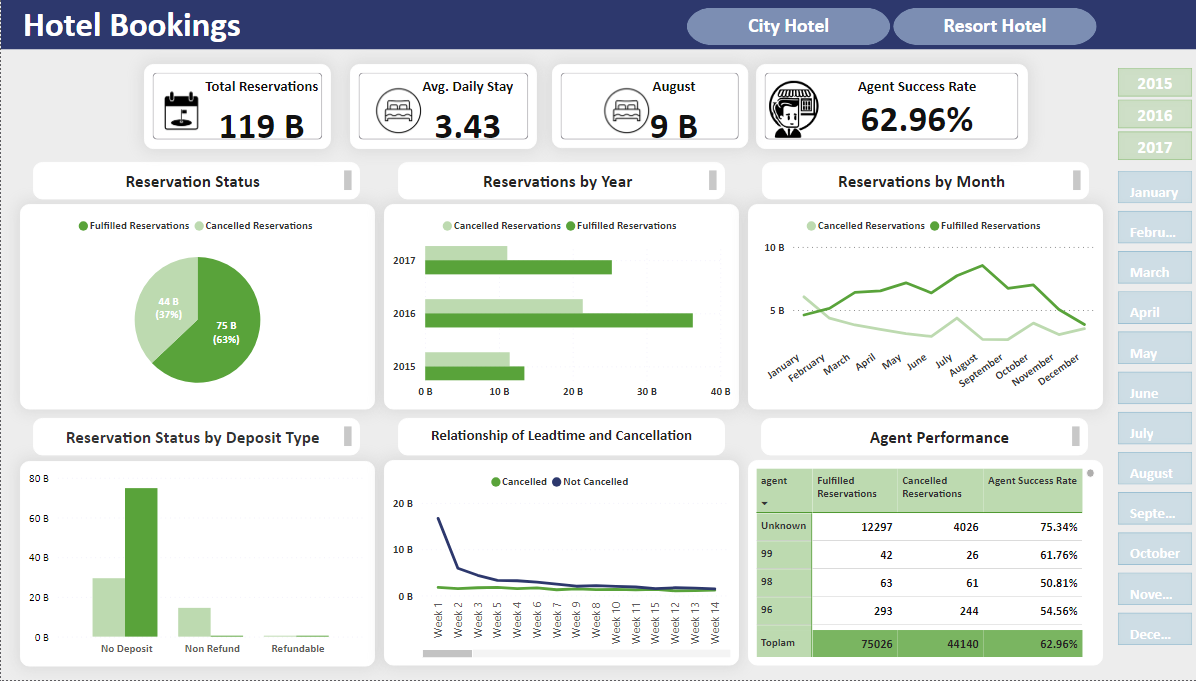

The dashboard page shown, as its layout file describes it:
{"tool":"powerbi","page":{"name":"Reservations","canvas":[1280,730],"ordinal":2},"visuals":[{"type":"shape","box":[0,0,1280.5,55],"z":0},{"type":"textbox","box":[0,0,280,70.1],"z":1000},{"type":"pieChart","title":"Fulfilled and Cancelled Reservations","fields":{"Y":["Measures_Table.Fulfilled Reservations","Measures_Table.Cancelled Reservations"]},"box":[20,220,380,220],"z":2000},{"type":"clusteredBarChart","title":"Reservations by Year","fields":{"Category":["Date_Table.Year"],"Y":["Measures_Table.Cancelled Reservations","Measures_Table.Fulfilled Reservations"]},"box":[410,220,380,220],"z":3000},{"type":"areaChart","title":"Reservations by Month","fields":{"Category":["Date_Table.MonthName"],"Y":["Measures_Table.Cancelled Reservations","Measures_Table.Fulfilled Reservations"]},"box":[800,220,380,220],"z":4000},{"type":"clusteredColumnChart","title":"Stay in Weeknights and Weekend Nights","fields":{"Category":["hotel_bookings.deposit_type"],"Y":["Measures_Table.Cancelled Reservations","Measures_Table.Fulfilled Reservations"]},"box":[20,495.6,380,220],"z":5000},{"type":"lineChart","title":"Relationship Leadtime and Cancellation","fields":{"Series":["hotel_bookings.Cancelled Status"],"Y":["Measures_Table.Total Reservations"],"Category":["hotel_bookings.LeadTimeGroup"]},"box":[410,495,380,220],"z":6000},{"type":"textbox","box":[34.4,175.6,350,40],"z":7000},{"type":"textbox","box":[424.4,175.6,350,40],"z":8000},{"type":"textbox","box":[814.4,175.6,350,40],"z":9000},{"type":"textbox","box":[34.4,450,350,40],"z":10000},{"type":"textbox","box":[424.4,450,350,40],"z":11000},{"type":"pivotTable","fields":{"Values":["Measures_Table.Fulfilled Reservations","Measures_Table.Cancelled Reservations","hotel_bookings.SuccessRate"],"Rows":["hotel_bookings.agent"]},"box":[800,495,380,220],"z":12000},{"type":"advancedSlicerVisual","fields":{"Values":["hotel_bookings.hotel"]},"box":[728.9,5.6,450,50],"z":13000},{"type":"cardVisual","title":"Total Customers","fields":{"Data":["Measures_Table.Avg. Daily Stay"]},"box":[373.5,70.1,200.2,90.5],"z":14000},{"type":"textbox","box":[814,450,350,40],"z":15000},{"type":"advancedSlicerVisual","fields":{"Values":["Date_Table.Year"]},"box":[1190,70,90,110],"z":16000},{"type":"advancedSlicerVisual","fields":{"Values":["Date_Table.MonthName"]},"box":[1190,180,90,520],"z":17000},{"type":"cardVisual","title":"Total Customers","fields":{"Data":["hotel_bookings.Agent Success Rate"]},"box":[808.3,70.1,290.7,90.5],"z":18000},{"type":"cardVisual","title":"Total Customers","fields":{"Data":["Measures_Table.Total Reservations"]},"box":[153,70.1,200.2,90.5],"z":19000},{"type":"cardVisual","title":"Total Customers","fields":{"Data":["Measures_Table.Fulfilled Reservations max per MonthName"]},"box":[590,70.6,209.7,90.2],"z":20000}]}

Visuals, with their boxes in screenshot pixels (x1, y1, x2, y2), scaled from the page's 1280x730 canvas onto the 1196x681 screenshot:
shape: l=0, t=0, r=1195, b=51
textbox: l=0, t=0, r=262, b=65
"Fulfilled and Cancelled Reservations" pieChart: l=19, t=205, r=374, b=410
"Reservations by Year" clusteredBarChart: l=383, t=205, r=738, b=410
"Reservations by Month" areaChart: l=748, t=205, r=1103, b=410
"Stay in Weeknights and Weekend Nights" clusteredColumnChart: l=19, t=462, r=374, b=668
"Relationship Leadtime and Cancellation" lineChart: l=383, t=462, r=738, b=667
textbox: l=32, t=164, r=359, b=201
textbox: l=397, t=164, r=724, b=201
textbox: l=761, t=164, r=1088, b=201
textbox: l=32, t=420, r=359, b=457
textbox: l=397, t=420, r=724, b=457
pivotTable - Measures_Table.Fulfilled Reservations x Measures_Table.Cancelled Reservations: l=748, t=462, r=1103, b=667
advancedSlicerVisual - hotel_bookings.hotel: l=681, t=5, r=1102, b=52
"Total Customers" cardVisual: l=349, t=65, r=536, b=150
textbox: l=761, t=420, r=1088, b=457
advancedSlicerVisual - Date_Table.Year: l=1112, t=65, r=1195, b=168
advancedSlicerVisual - Date_Table.MonthName: l=1112, t=168, r=1195, b=653
"Total Customers" cardVisual: l=755, t=65, r=1027, b=150
"Total Customers" cardVisual: l=143, t=65, r=330, b=150
"Total Customers" cardVisual: l=551, t=66, r=747, b=150
